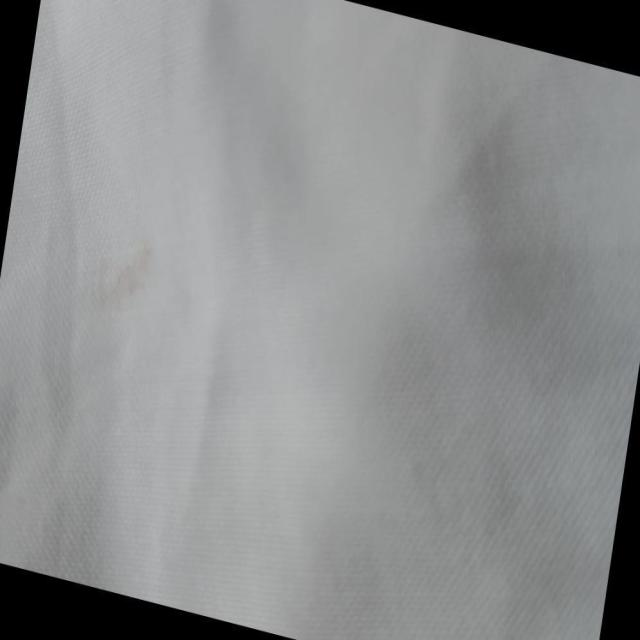stain: (88, 215, 166, 328)
